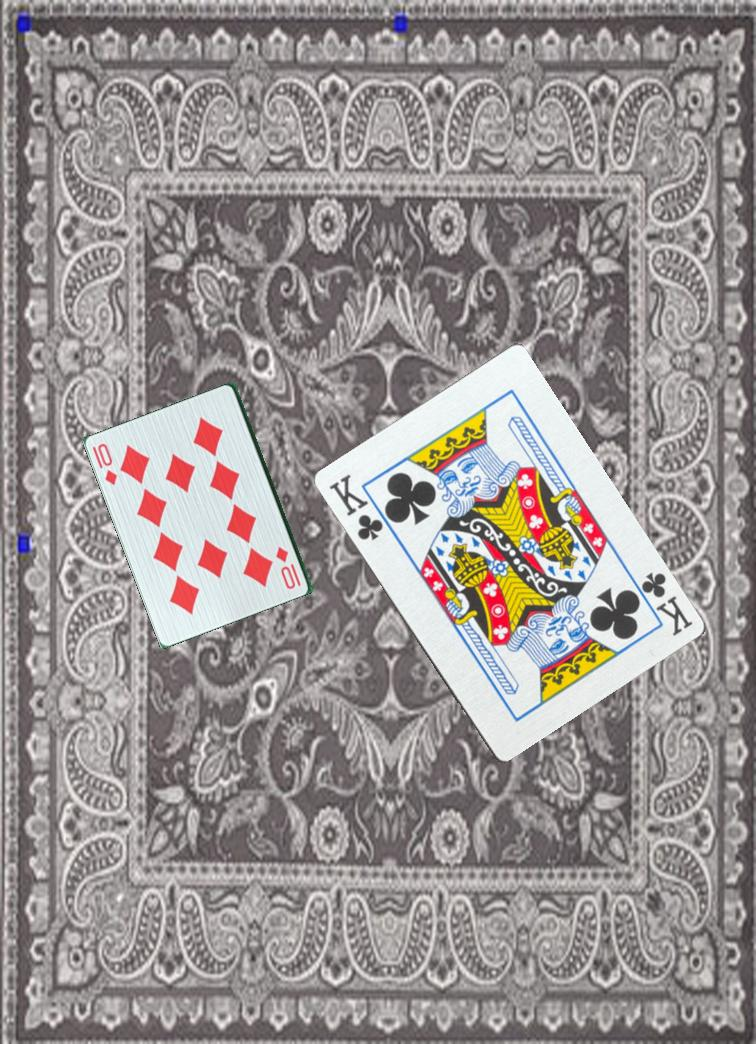kc: (320, 470, 386, 544), (636, 567, 695, 639)
td: (272, 538, 303, 589), (93, 439, 120, 488)
